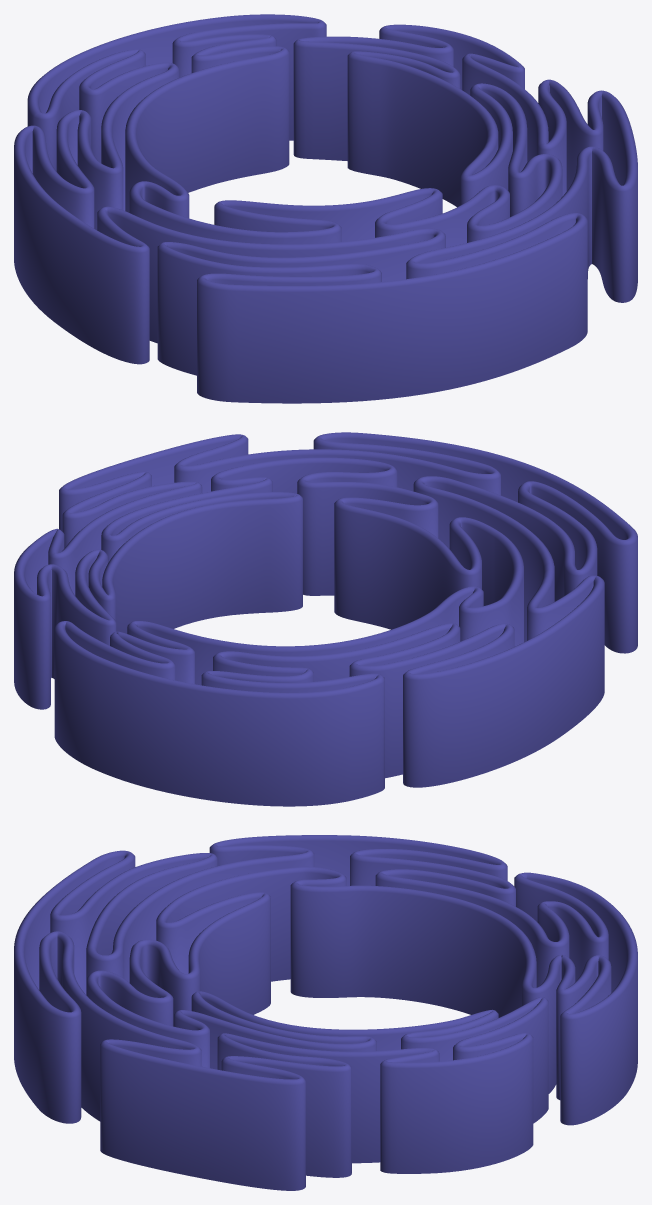
Rendered from RE ruvido.glb.
3 renders of one model, top to bottom at view 1: azimuth 30°, elevation 25°; view 2: azimuth 150°, elevation 25°; view 3: azimuth 270°, elevation 25°, orthographic. The views are drawn at different scales.
Visible parts, largest first — view 1: BezierCurve; view 2: BezierCurve; view 3: BezierCurve.
Boxes of the visible parts, x1,y1,x2,y2 form: BezierCurve: [14, 14, 637, 403]; BezierCurve: [14, 432, 637, 806]; BezierCurve: [14, 835, 637, 1190].
Size of the model in its own units: 3.82 by 0.7809 by 4.04.
